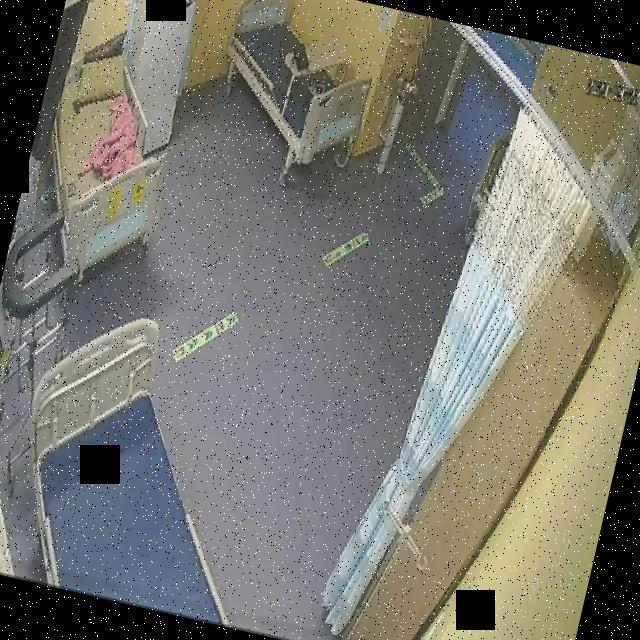bed: (0, 298, 289, 624), (21, 32, 198, 286), (203, 0, 387, 177)
walker: (0, 202, 93, 487)
